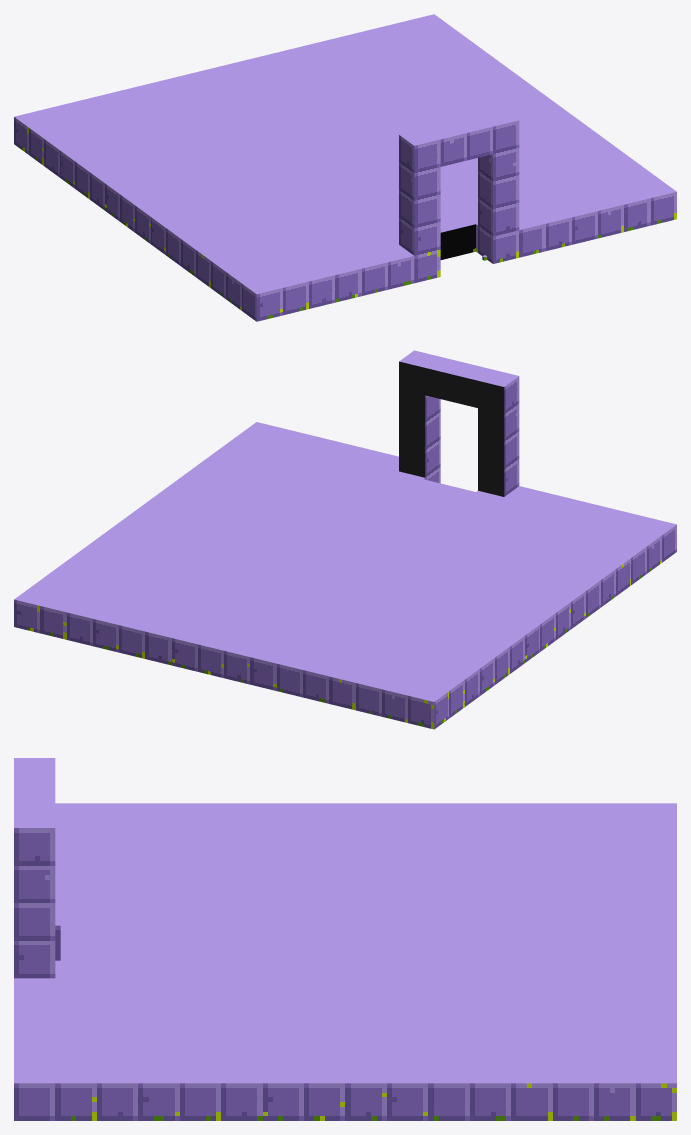
Rendered from water_doorframe_bao.fezao.glb.
The picture shows the model from 3 angles, top to bottom: view 1: azimuth 30°, elevation 25°; view 2: azimuth 150°, elevation 25°; view 3: azimuth 270°, elevation 25°; orthographic projection. The views are drawn at different scales.
Visible parts, largest first — view 1: WATER_DOORFRAME_BAO; view 2: WATER_DOORFRAME_BAO; view 3: WATER_DOORFRAME_BAO.
Boxes of the visible parts, x1=… form: WATER_DOORFRAME_BAO: x1=14, y1=14, x2=676, y2=321; WATER_DOORFRAME_BAO: x1=14, y1=350, x2=676, y2=729; WATER_DOORFRAME_BAO: x1=14, y1=758, x2=676, y2=1120.
Size of the model in its own units: 8 by 2.5 by 8.
1 material, 1 textured.
